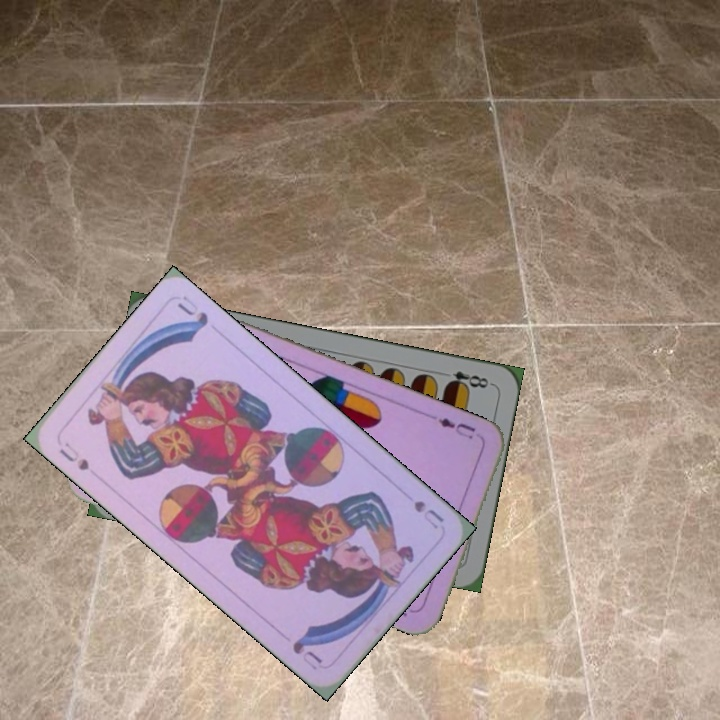E8: (442, 367, 495, 392)
EU: (434, 413, 486, 443)
SU: (409, 496, 446, 532), (55, 438, 92, 474)
